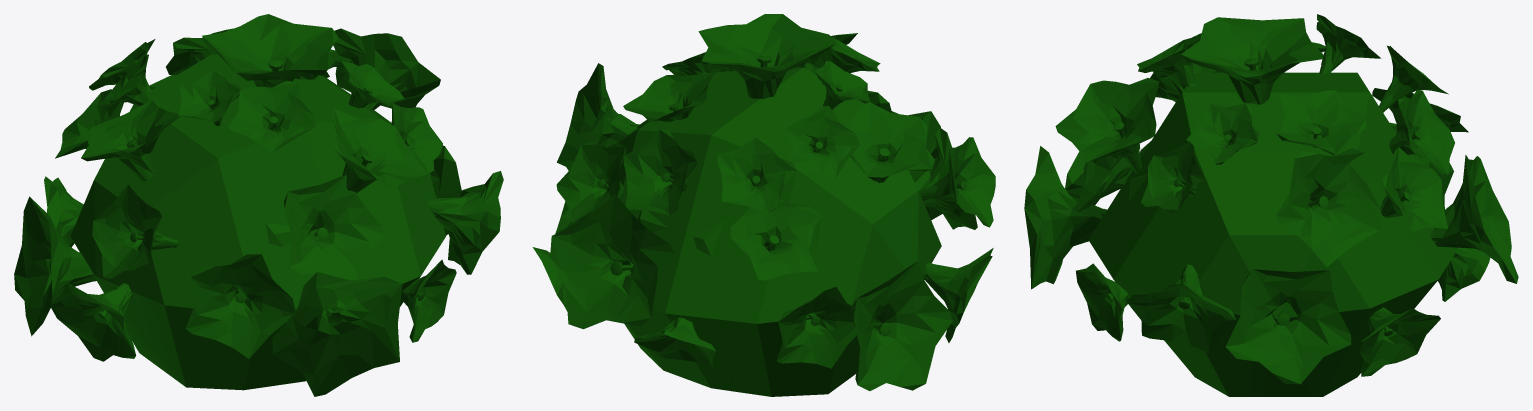
The model's file is moonflower.fbx.
3 views of the same model, side by side, from view 1: azimuth 30°, elevation 25°; view 2: azimuth 150°, elevation 25°; view 3: azimuth 270°, elevation 25° (orthographic).
Visible parts, largest first — view 1: full_bush; view 2: full_bush; view 3: full_bush.
Part boxes in pixels (box(x1,y1,x2,y2)): full_bush: box(14, 14, 503, 396); full_bush: box(532, 14, 995, 396); full_bush: box(1024, 14, 1518, 396).
Bounding box in the file's own units: 142 × 102 × 147.
